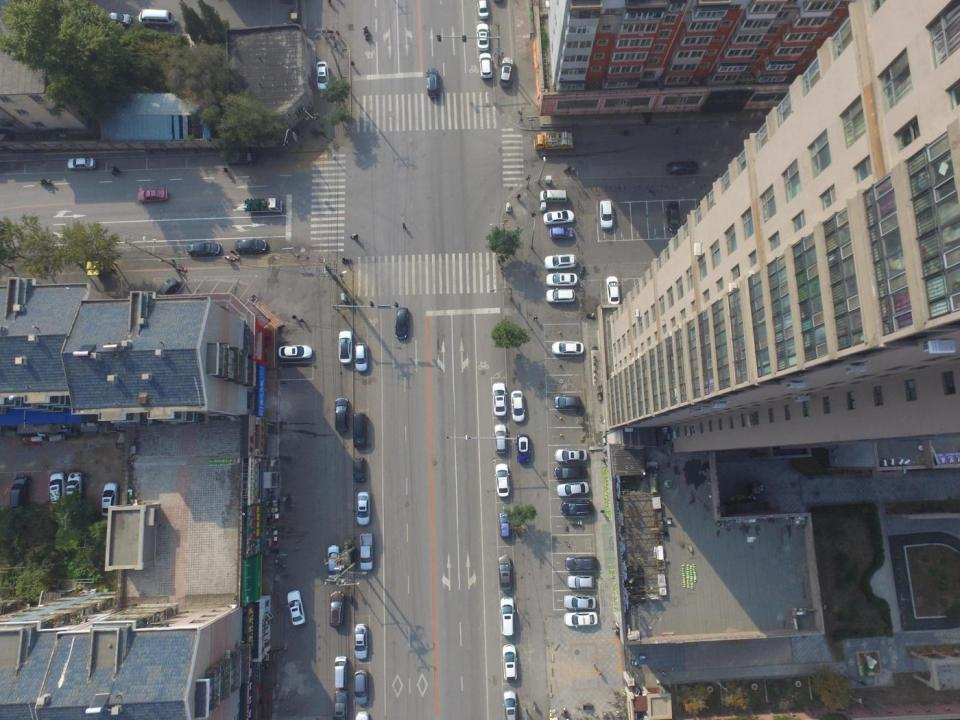car: (150, 277, 181, 306), (48, 472, 69, 512), (9, 474, 30, 511), (286, 589, 306, 626), (328, 590, 346, 629), (65, 472, 84, 508), (358, 532, 374, 573), (101, 482, 120, 516), (555, 480, 590, 498), (326, 544, 343, 581), (353, 669, 370, 705), (502, 644, 518, 682), (500, 596, 515, 636), (563, 611, 598, 628), (553, 446, 588, 463), (353, 623, 369, 660), (498, 555, 514, 592), (494, 463, 511, 497), (334, 397, 350, 433), (543, 208, 575, 226), (278, 344, 313, 360), (224, 150, 259, 166), (563, 594, 597, 610), (564, 555, 598, 571), (544, 254, 576, 271), (186, 240, 220, 256), (492, 381, 507, 417), (338, 330, 353, 366), (510, 390, 526, 423), (545, 272, 578, 288), (666, 160, 699, 176), (498, 57, 515, 88), (355, 491, 370, 526), (665, 201, 681, 233), (493, 424, 509, 455), (605, 275, 620, 308), (560, 502, 595, 516), (552, 340, 584, 355), (502, 690, 518, 720), (332, 690, 348, 720), (353, 343, 369, 373), (67, 156, 97, 172), (136, 188, 168, 203), (235, 238, 267, 253), (545, 288, 576, 303), (426, 68, 441, 98), (315, 61, 330, 91), (394, 307, 408, 339), (478, 52, 494, 80), (600, 199, 614, 230), (567, 574, 594, 590), (516, 434, 530, 464), (352, 457, 367, 483), (549, 226, 575, 241), (477, 22, 490, 52), (553, 396, 582, 409), (497, 512, 512, 537), (476, 0, 489, 19), (340, 258, 352, 264)
truck: (532, 132, 575, 152), (243, 195, 282, 214)
van: (351, 413, 368, 449), (334, 655, 349, 688), (540, 189, 567, 204)
